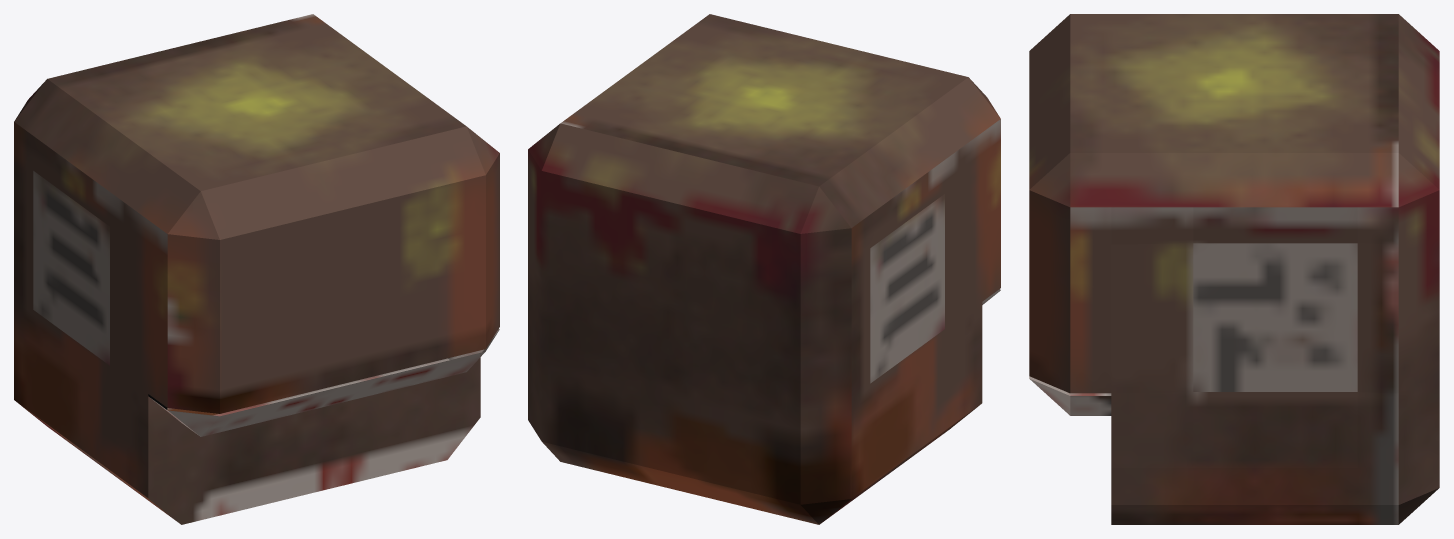
File: interior.fbx
3 views of the same model, side by side, from view 1: azimuth 30°, elevation 25°; view 2: azimuth 150°, elevation 25°; view 3: azimuth 270°, elevation 25° (orthographic). The views are drawn at different scales.
Parts seen in each view (by area): view 1: Cube; view 2: Cube; view 3: Cube.
Part boxes in pixels (x1=…): Cube: x1=14, y1=14, x2=499, y2=524; Cube: x1=528, y1=14, x2=1000, y2=524; Cube: x1=1029, y1=14, x2=1439, y2=524.
Bounding box in the file's own units: 200 × 200 × 200.
Materials: 6 (2 with a texture image).
